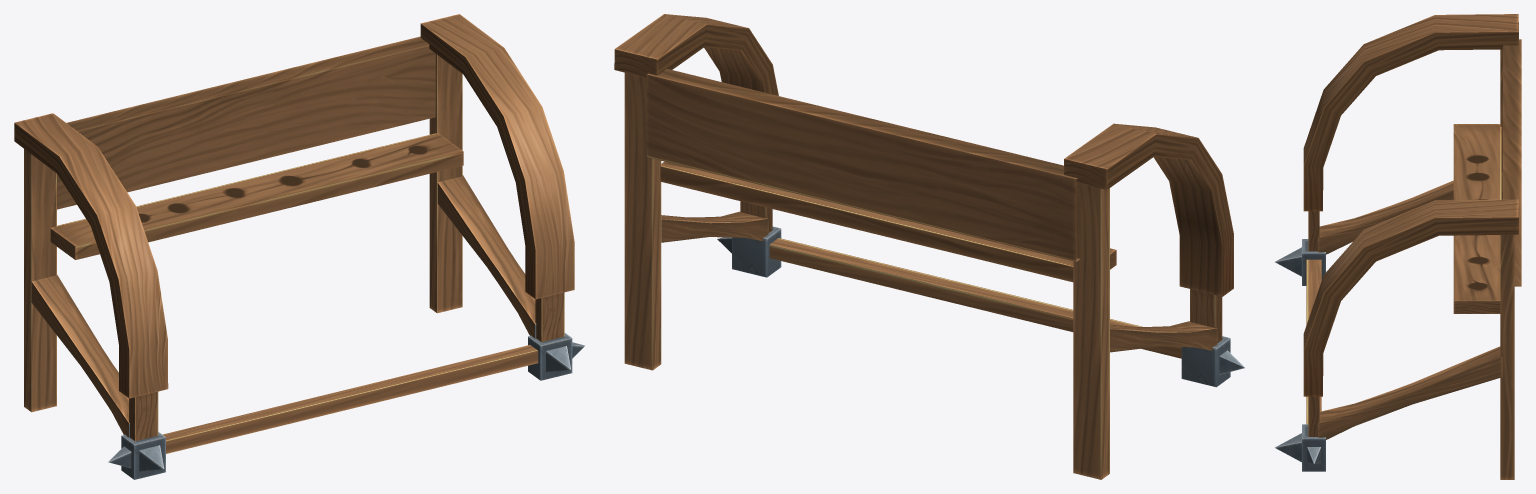
The model's file is wuqijia01.fbx.
The picture shows the model from 3 angles, left to right: view 1: azimuth 30°, elevation 25°; view 2: azimuth 150°, elevation 25°; view 3: azimuth 270°, elevation 25°; orthographic projection. The views are drawn at different scales.
Parts seen in each view (by area): view 1: wuqijia01; view 2: wuqijia01; view 3: wuqijia01.
Boxes of the visible parts, left/top/right/bottom form: wuqijia01: left=14, top=14, right=585, bottom=479; wuqijia01: left=614, top=14, right=1244, bottom=479; wuqijia01: left=1275, top=14, right=1521, bottom=479.
Bounding box in the file's own units: 60.32 × 34.29 × 28.87.
Materials: 1 (1 with a texture image).
